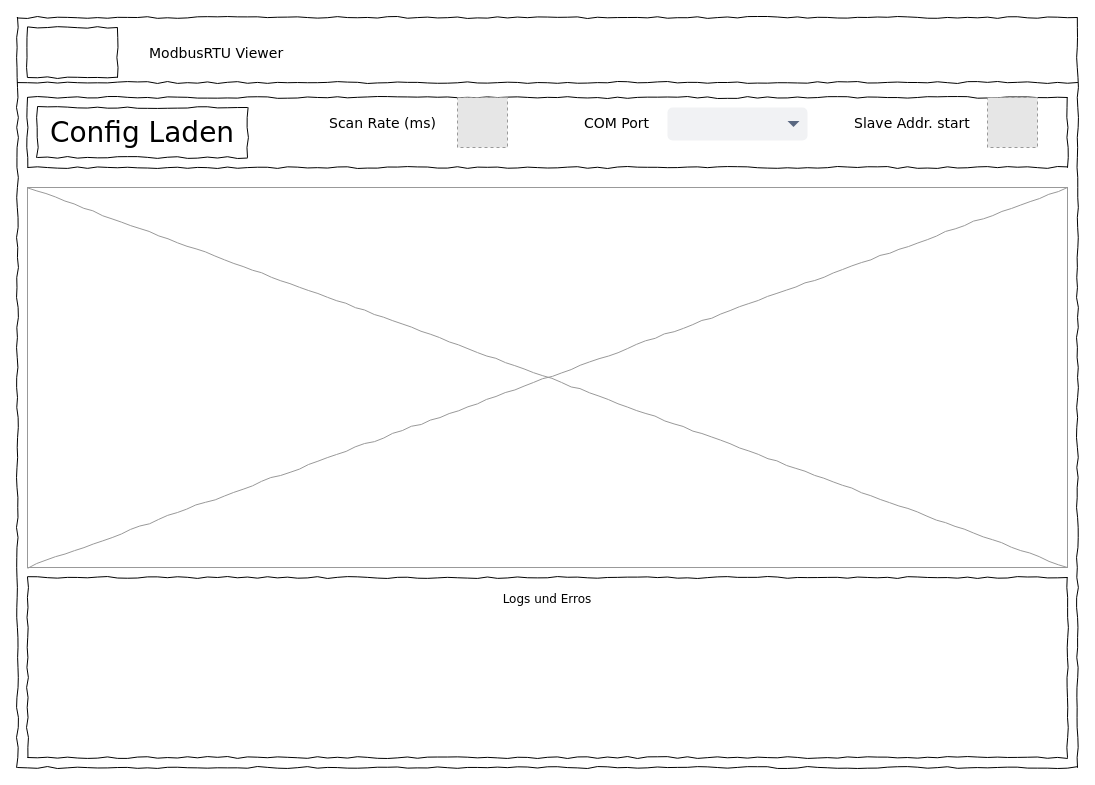
The diagram is 1095 pixels wide and 785 high, and some of its shapes have lost their labels. Grey dashed boxes stand in for pictures. Here are the shapes that lost their labels. From the top down, the centre of each, then its label:
point 72,52: LOGO
point 737,123: Dropdown button
